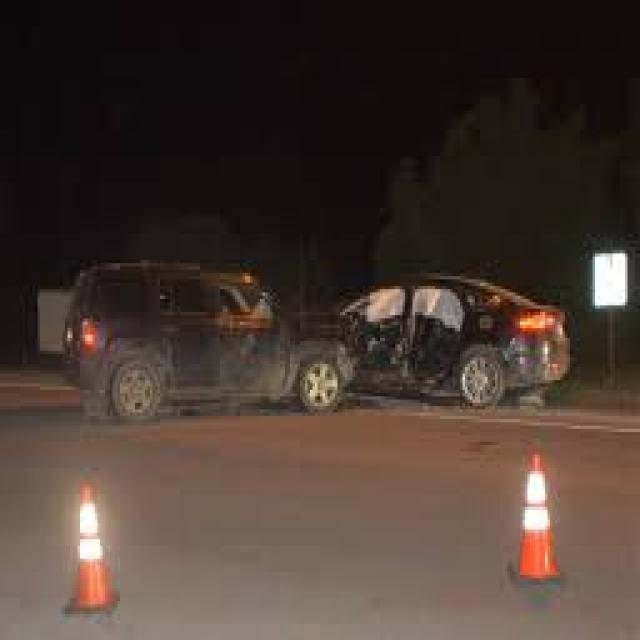accident: (41, 248, 586, 444)
